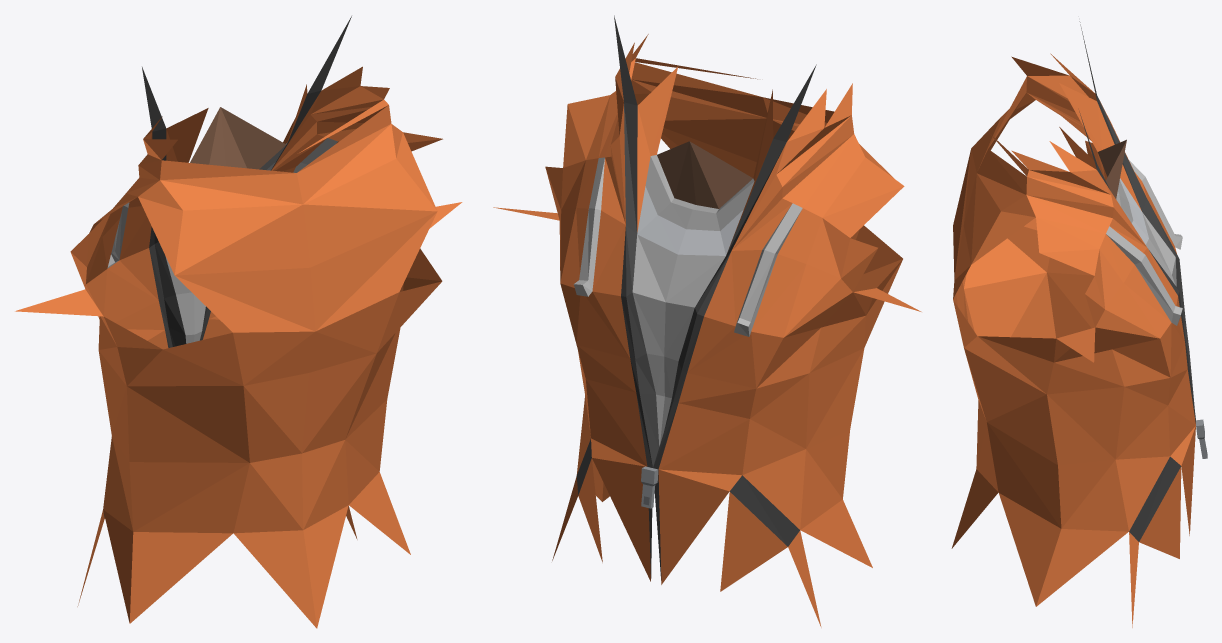
The model's file is Son_01_Torso_0_04_C.obj.
3 renders of one model, left to right at view 1: azimuth 30°, elevation 25°; view 2: azimuth 150°, elevation 25°; view 3: azimuth 270°, elevation 25°, orthographic. The views are drawn at different scales.
Parts seen in each view (by area): view 1: Son_01_Torso_0_04_C; view 2: Son_01_Torso_0_04_C; view 3: Son_01_Torso_0_04_C.
Part boxes in pixels (box(x1,y1,x2,y2)): Son_01_Torso_0_04_C: box(15, 16, 462, 628); Son_01_Torso_0_04_C: box(493, 15, 921, 627); Son_01_Torso_0_04_C: box(951, 21, 1207, 627).
Bounding box in the file's own units: 0.5821 × 0.6905 × 0.3167.
Materials: 1 (1 with a texture image).
